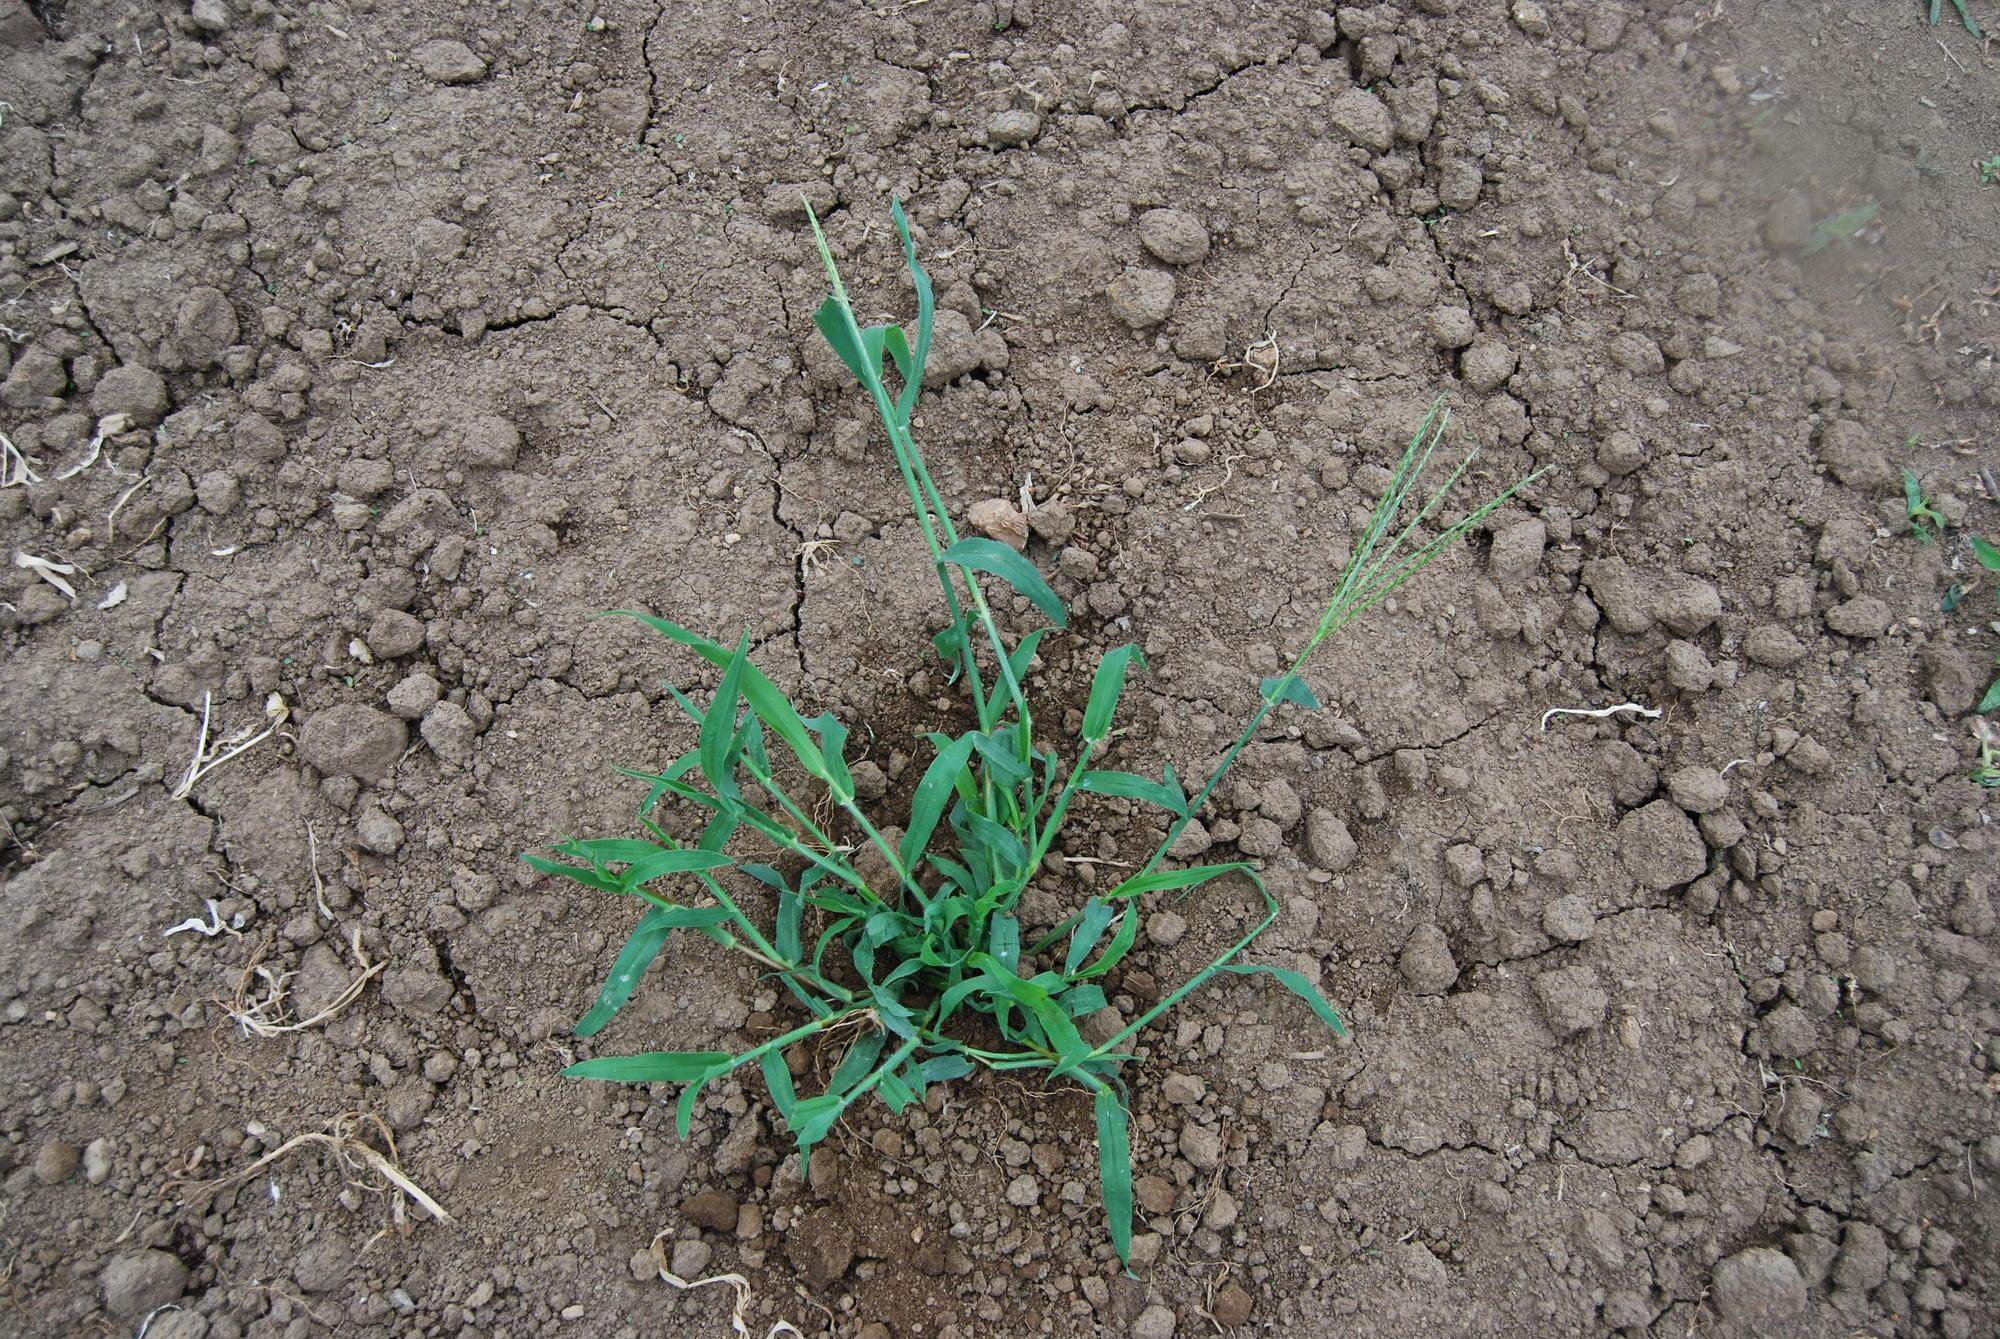crabgrass: (609, 430, 1450, 1206)
